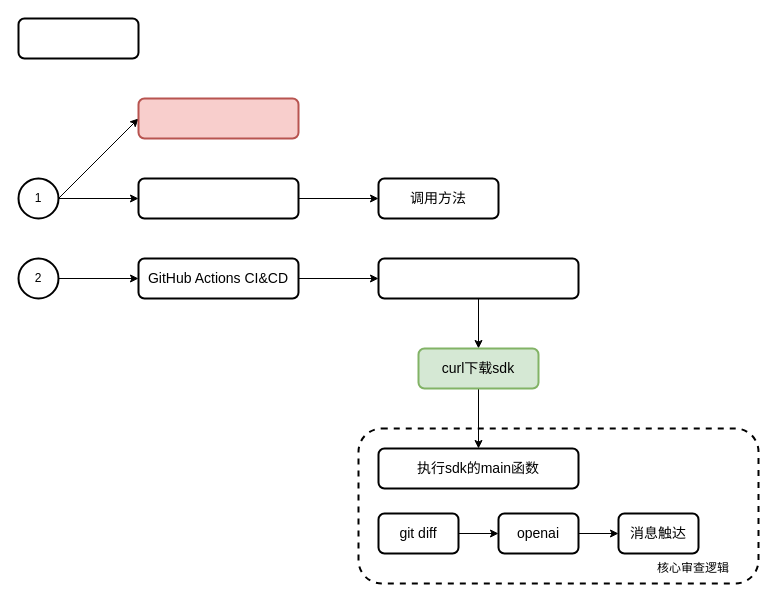
Image size: 776x601. Some labels were removed from this diagram. The shapes that lost their labels are listed below. From the top down, each one's box as (x1, y1, x2, y2) in pixels, then its label:
(17, 17, 139, 59): sdk
(137, 97, 299, 139): 监控系统sdk
(137, 177, 299, 219): 业务工程，引入sdk包
(377, 257, 579, 299): 一个黑盒系统，可以执行脚本
